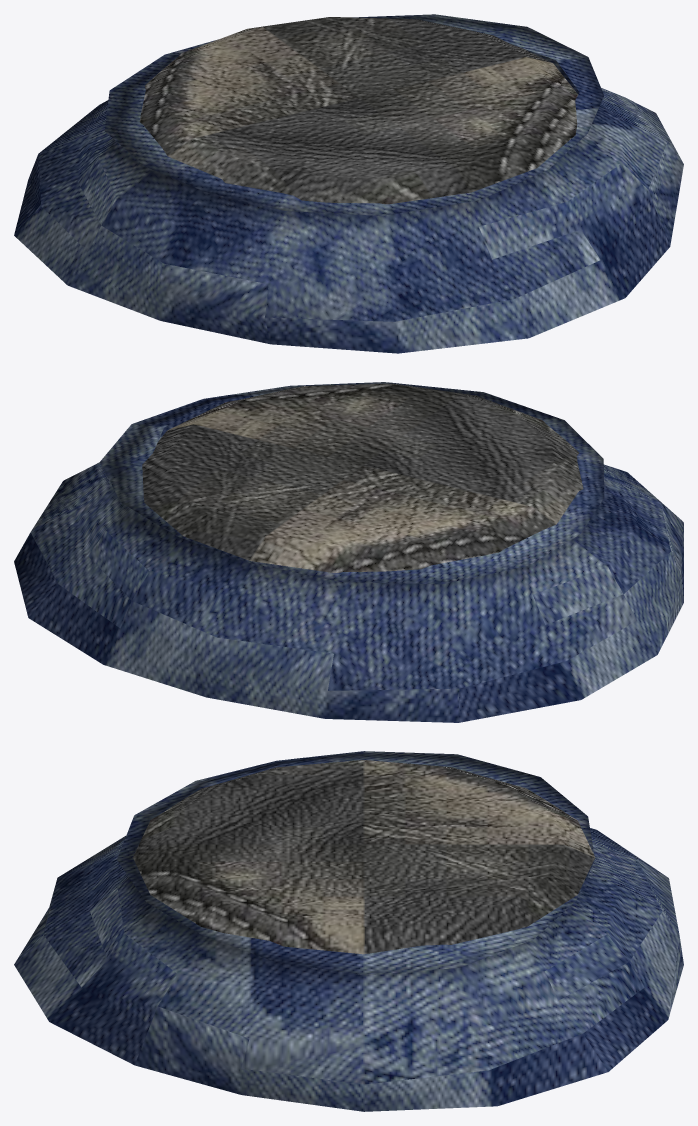
The model's file is sleeve_ct.glb.
The picture shows the model from 3 angles, top to bottom: view 1: azimuth 30°, elevation 25°; view 2: azimuth 150°, elevation 25°; view 3: azimuth 270°, elevation 25°; orthographic projection. The views are drawn at different scales.
Parts seen in each view (by area): view 1: sleeve, gauntlet; view 2: sleeve, gauntlet; view 3: sleeve, gauntlet.
Part boxes in pixels (box(x1,y1,x2,y2)): sleeve: box(14, 14, 683, 353); gauntlet: box(139, 17, 578, 204); sleeve: box(14, 382, 683, 722); gauntlet: box(142, 383, 583, 572); sleeve: box(14, 751, 683, 1111); gauntlet: box(133, 760, 595, 954).
Size of the model in its own units: 5.34 by 1.01 by 5.1.
Materials: 2 (2 with a texture image).
